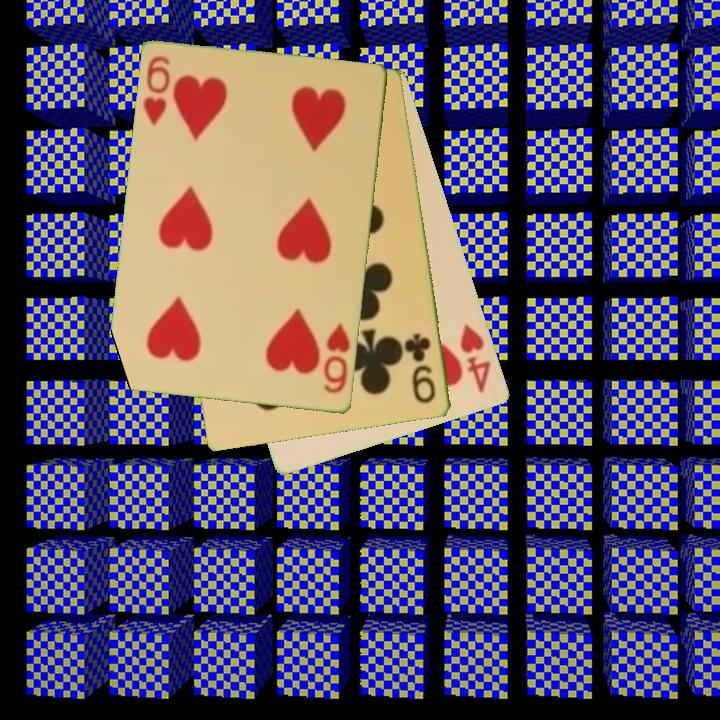4h: (457, 320, 494, 396)
6h: (320, 320, 354, 397), (140, 53, 173, 129)
9c: (403, 330, 439, 407)
